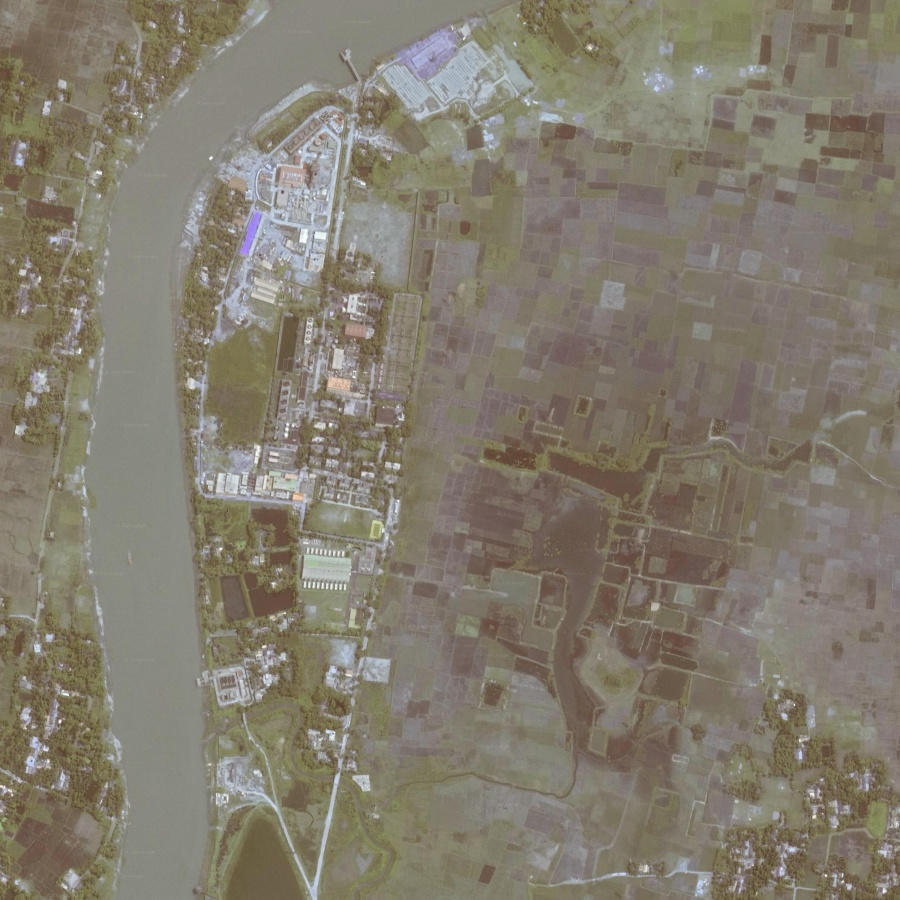PowerPlant: (267, 117, 338, 272)
